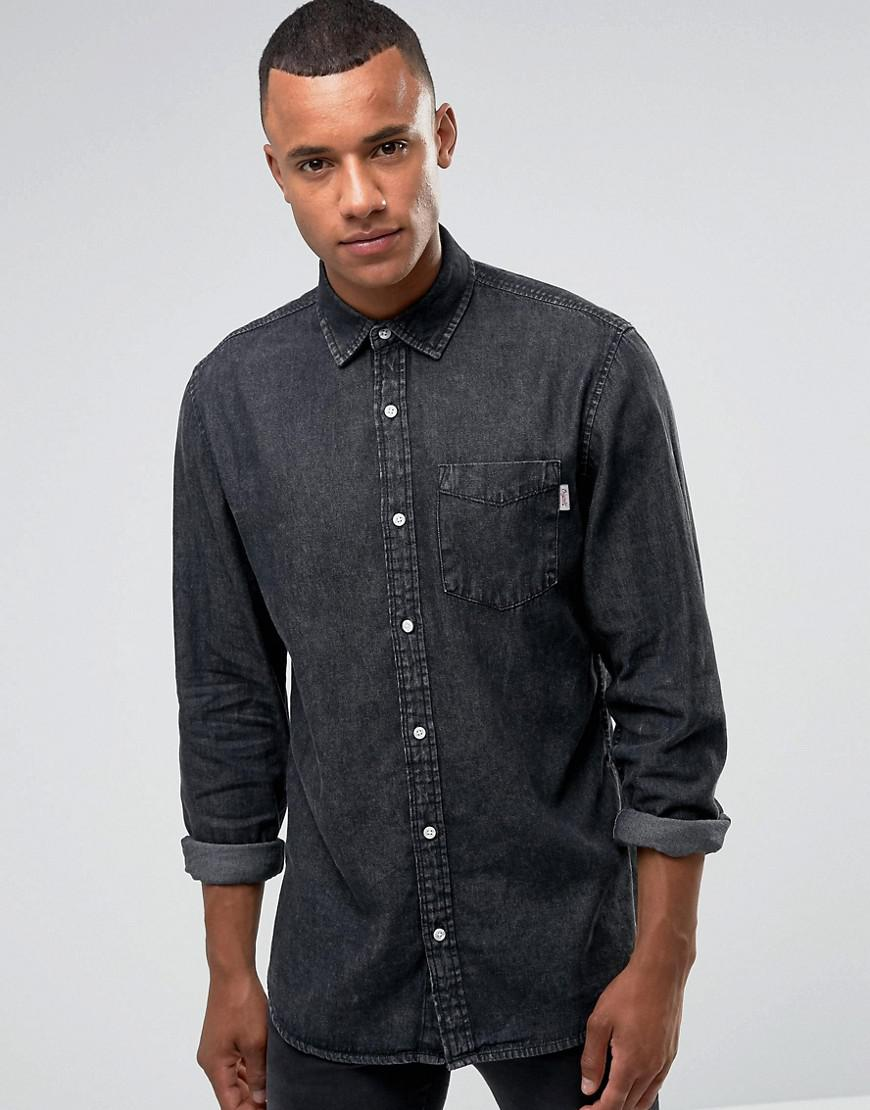teeshirt: (129, 227, 739, 1049)
